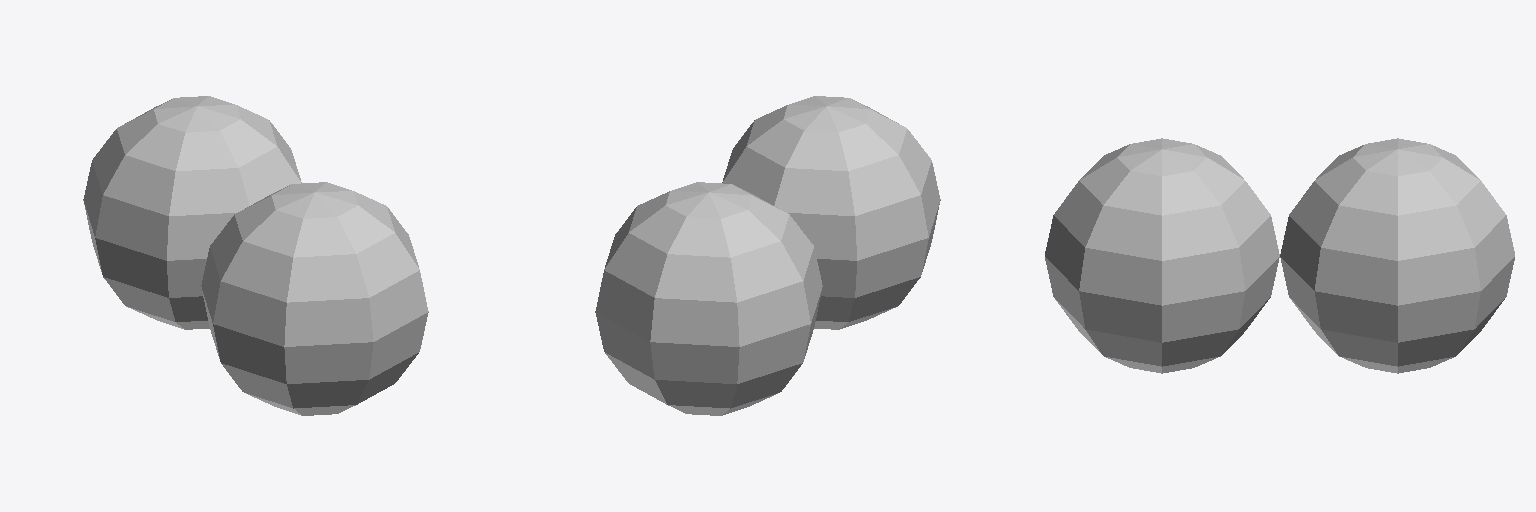
File: double.obj
3 views of the same model, side by side, from view 1: azimuth 30°, elevation 25°; view 2: azimuth 150°, elevation 25°; view 3: azimuth 270°, elevation 25° (orthographic).
Visible parts, largest first — view 1: Sphere.001, Sphere.000_Sphere.002; view 2: Sphere.000_Sphere.002, Sphere.001; view 3: Sphere.001, Sphere.000_Sphere.002.
Part boxes in pixels (bbox=[...]): Sphere.001: bbox=[201, 182, 428, 415]; Sphere.000_Sphere.002: bbox=[83, 96, 301, 329]; Sphere.000_Sphere.002: bbox=[595, 182, 822, 415]; Sphere.001: bbox=[722, 96, 940, 329]; Sphere.001: bbox=[1045, 138, 1279, 373]; Sphere.000_Sphere.002: bbox=[1280, 138, 1514, 373].
Size of the model in its own units: 1 by 1 by 2.